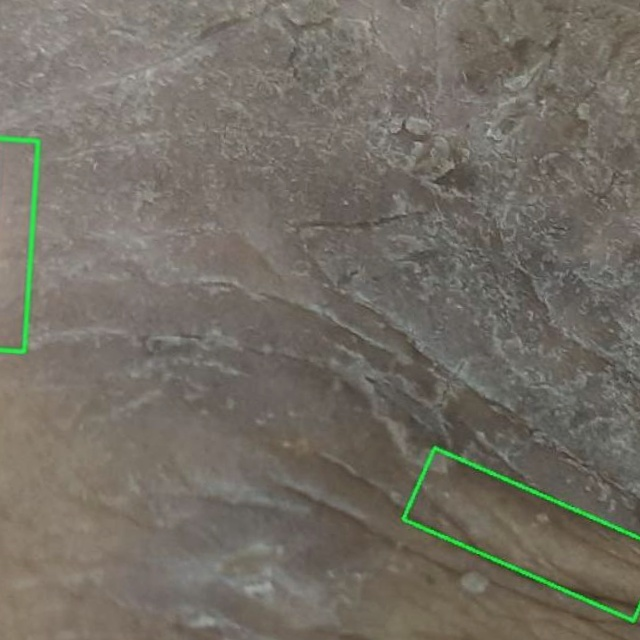Eczema: (403, 446, 639, 620), (0, 138, 39, 352)
